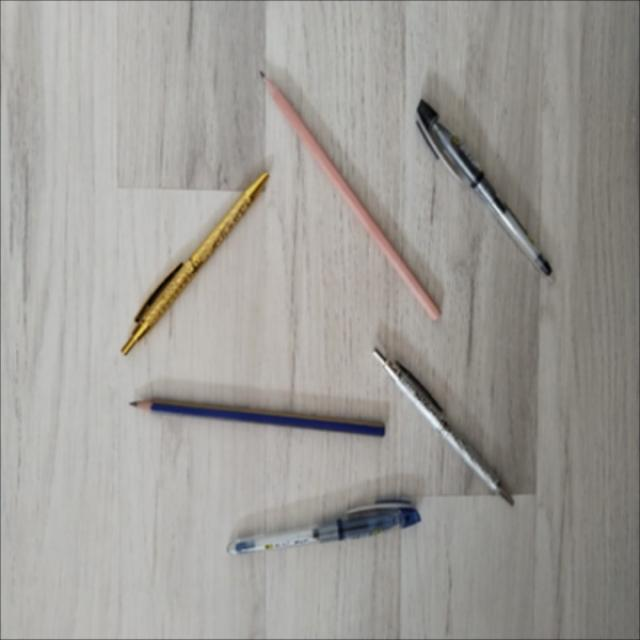pen: (413, 102, 546, 278), (224, 498, 422, 554)
pencil: (261, 71, 439, 319), (132, 399, 379, 422)
signature pen: (121, 175, 268, 352), (373, 350, 506, 500)
